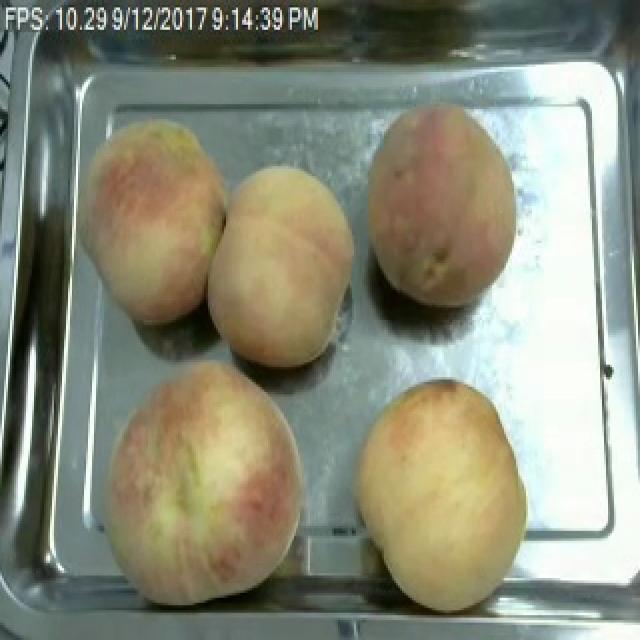Fruit: (78, 350, 318, 615), (340, 370, 540, 620), (70, 104, 238, 335), (360, 94, 526, 318), (198, 156, 366, 377)
